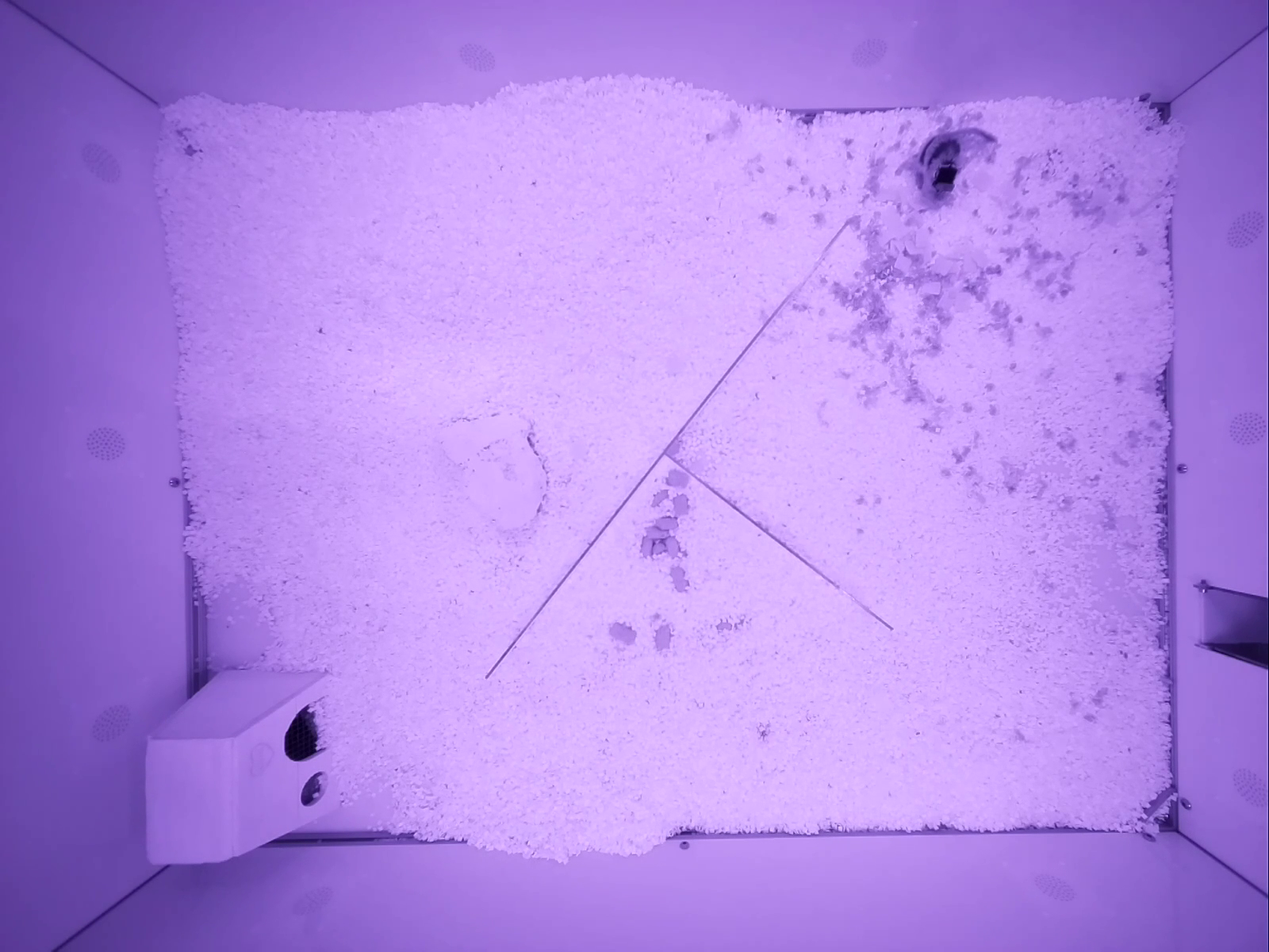adult_back: (915, 127, 996, 204)
